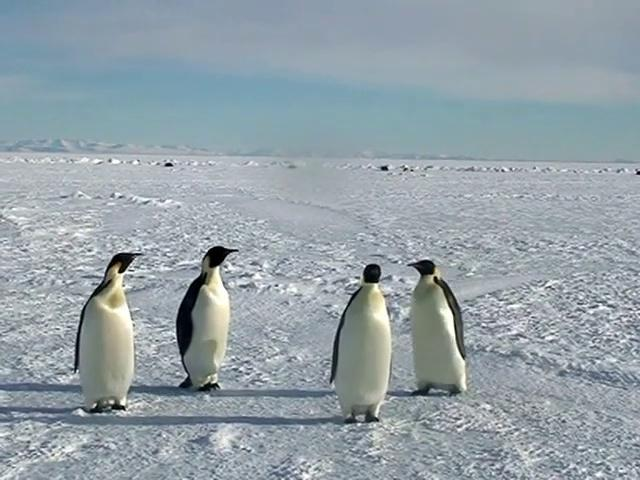animal: (331, 265, 392, 424)
